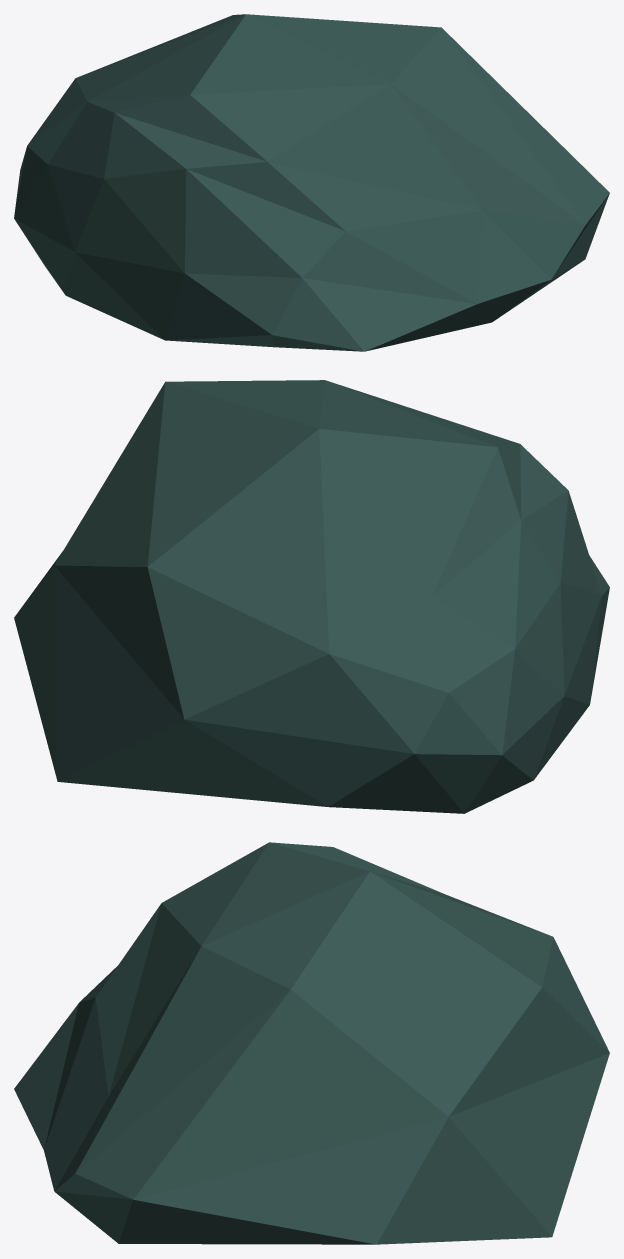
The model's file is stone002.fbx.
The picture shows the model from 3 angles, top to bottom: view 1: azimuth 30°, elevation 25°; view 2: azimuth 150°, elevation 25°; view 3: azimuth 270°, elevation 25°; orthographic projection. The views are drawn at different scales.
Parts seen in each view (by area): view 1: stone002; view 2: stone002; view 3: stone002.
Part boxes in pixels (x1=…): stone002: x1=14, y1=14, x2=609, y2=351; stone002: x1=14, y1=380, x2=609, y2=813; stone002: x1=14, y1=842, x2=609, y2=1244.
Size of the model in its own units: 119 by 67.11 by 122.
